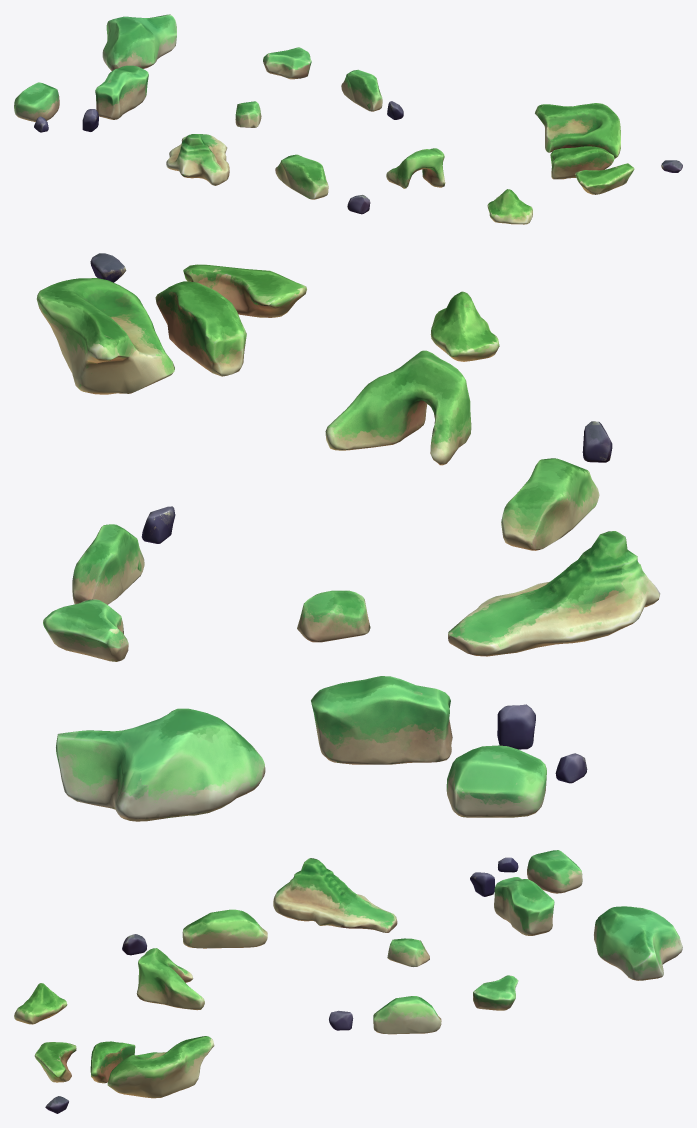
Rendered from islands.glb.
3 views of the same model, one above another, from view 1: azimuth 30°, elevation 25°; view 2: azimuth 150°, elevation 25°; view 3: azimuth 270°, elevation 25° (orthographic). The views are drawn at different scales.
Visible parts, largest first — view 1: Islands; view 2: Islands; view 3: Islands.
Part boxes in pixels (left/top/right/bottom): Islands: left=14, top=14, right=682, bottom=224; Islands: left=36, top=253, right=660, bottom=821; Islands: left=14, top=850, right=682, bottom=1113.
Size of the model in its own units: 209 by 21.9 by 240.
Materials: 1 (1 with a texture image).
